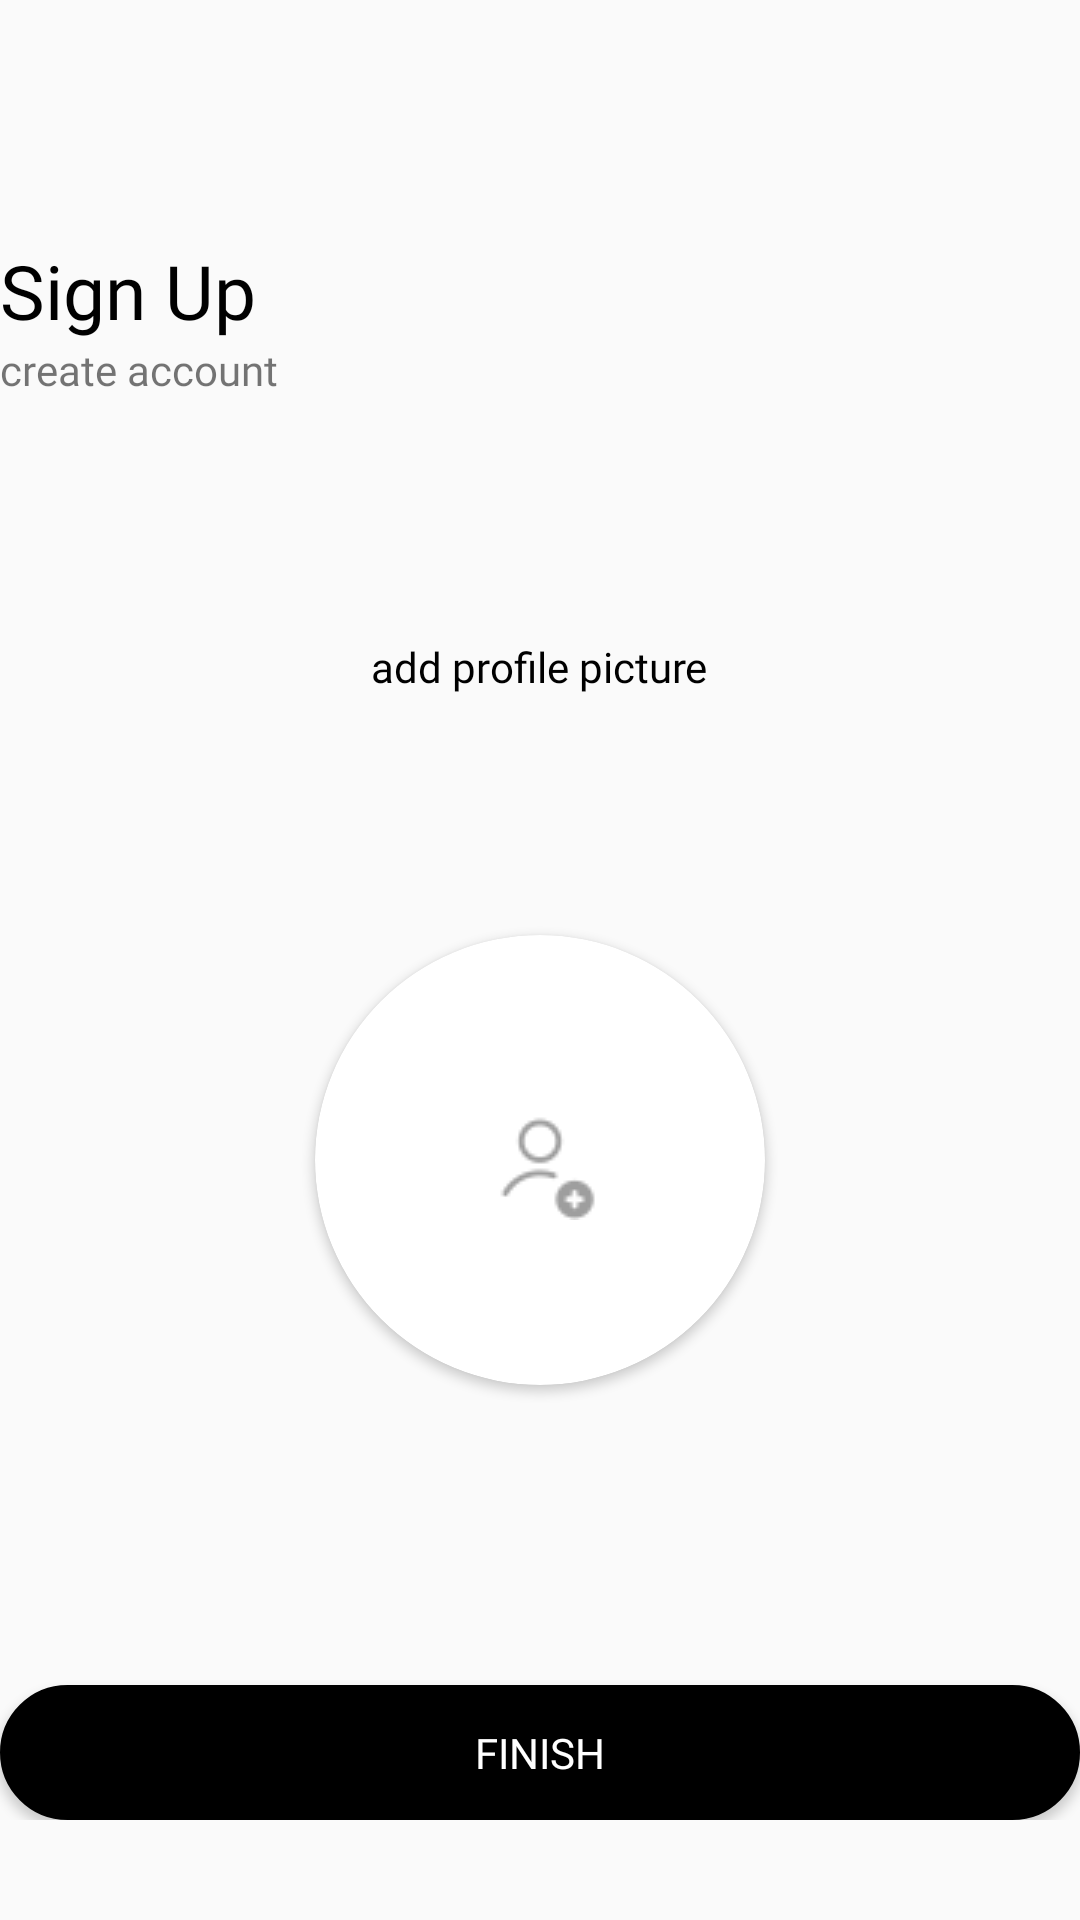

Icon bounding boxes for this 1080px x 1920px phone screenshot, format (x1=x1, y1=y1, x2=x2, y2=y2):
profile: (x1=502, y1=1118, x2=595, y2=1220)
